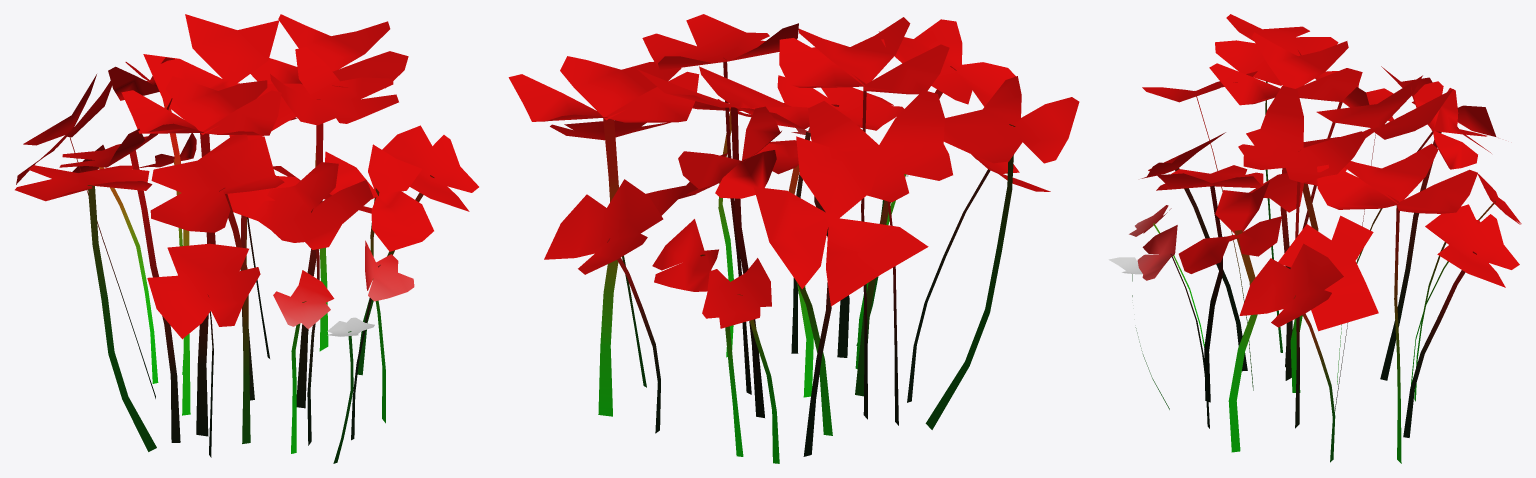
File: Var2_LOD0.fbx
The picture shows the model from 3 angles, left to right: view 1: azimuth 30°, elevation 25°; view 2: azimuth 150°, elevation 25°; view 3: azimuth 270°, elevation 25°; orthographic projection. The views are drawn at different scales.
Visible parts, largest first — view 1: _4107_Var2_LOD0; view 2: _4107_Var2_LOD0; view 3: _4107_Var2_LOD0.
Part boxes in pixels (x1,y1,x2,y2): _4107_Var2_LOD0: [15, 14, 478, 463]; _4107_Var2_LOD0: [508, 14, 1079, 463]; _4107_Var2_LOD0: [1108, 14, 1521, 463].
Bounding box in the file's own units: 28.11 × 20.49 × 23.56.
